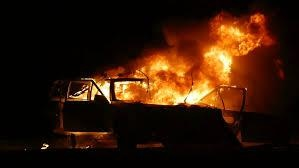fire: (72, 17, 243, 107)
